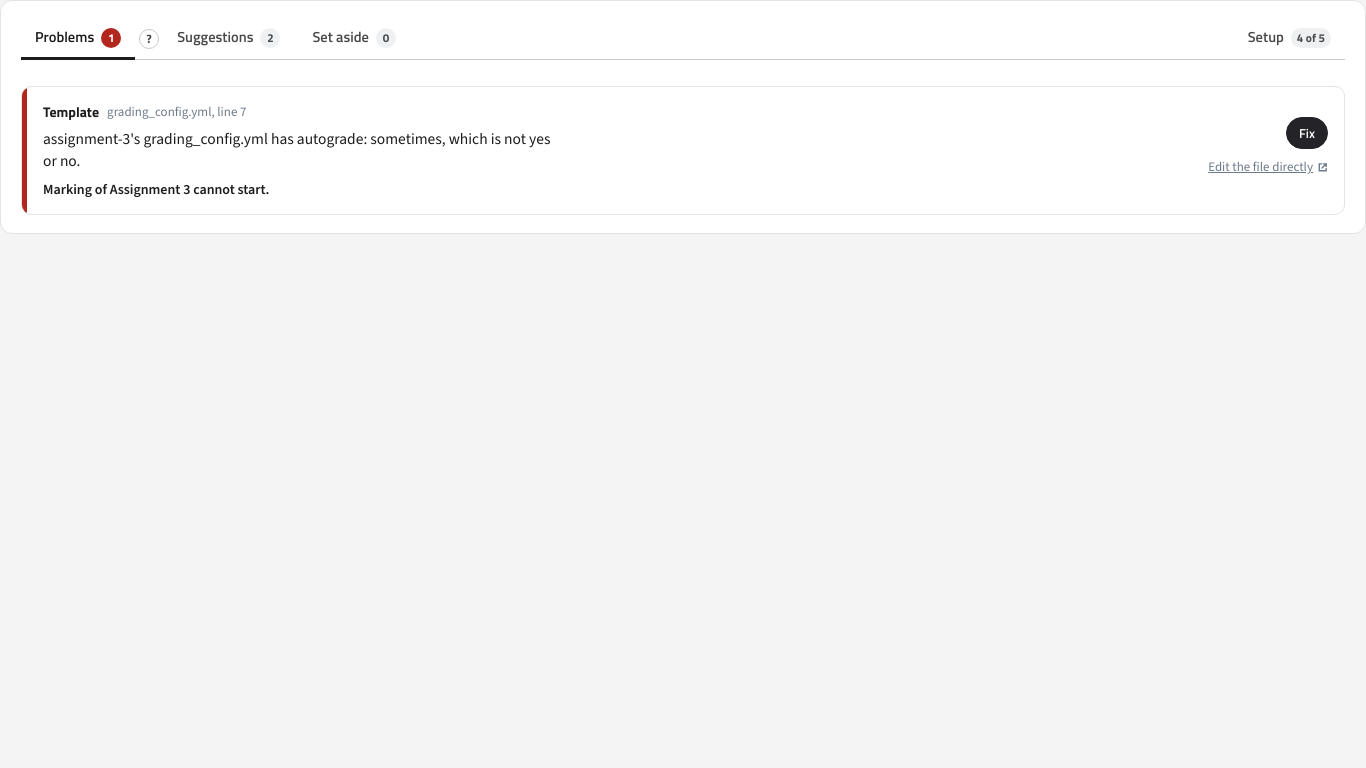
Test case: the circle before a suggestion › keeps the dialog open and says why when the save fails; Cancel writes nothing
Click the tab "Suggestions 2": (229, 39) [163,19,294,60]
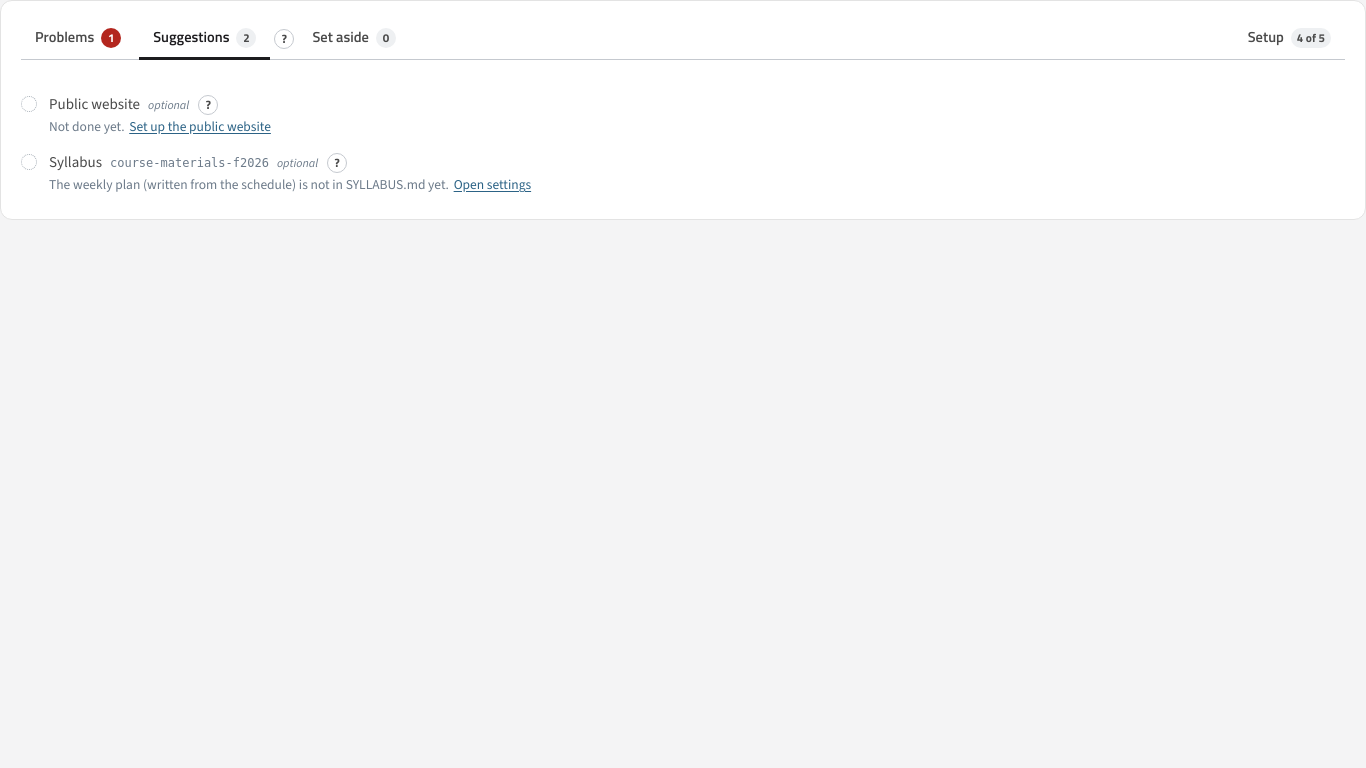
Click the button named "Set aside Public website…": (29, 104) [21,96,37,112]
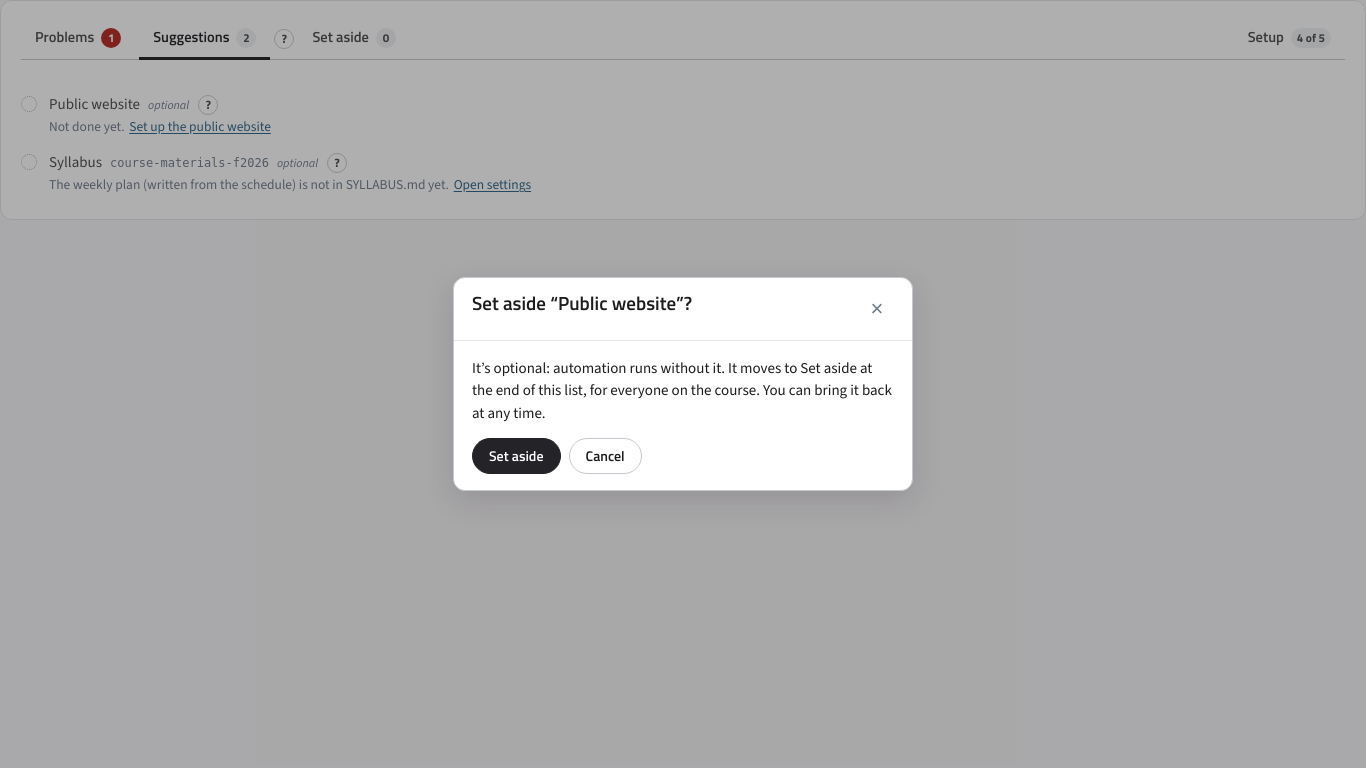
Click the button "Set aside": (516, 456) [472,438,560,474]
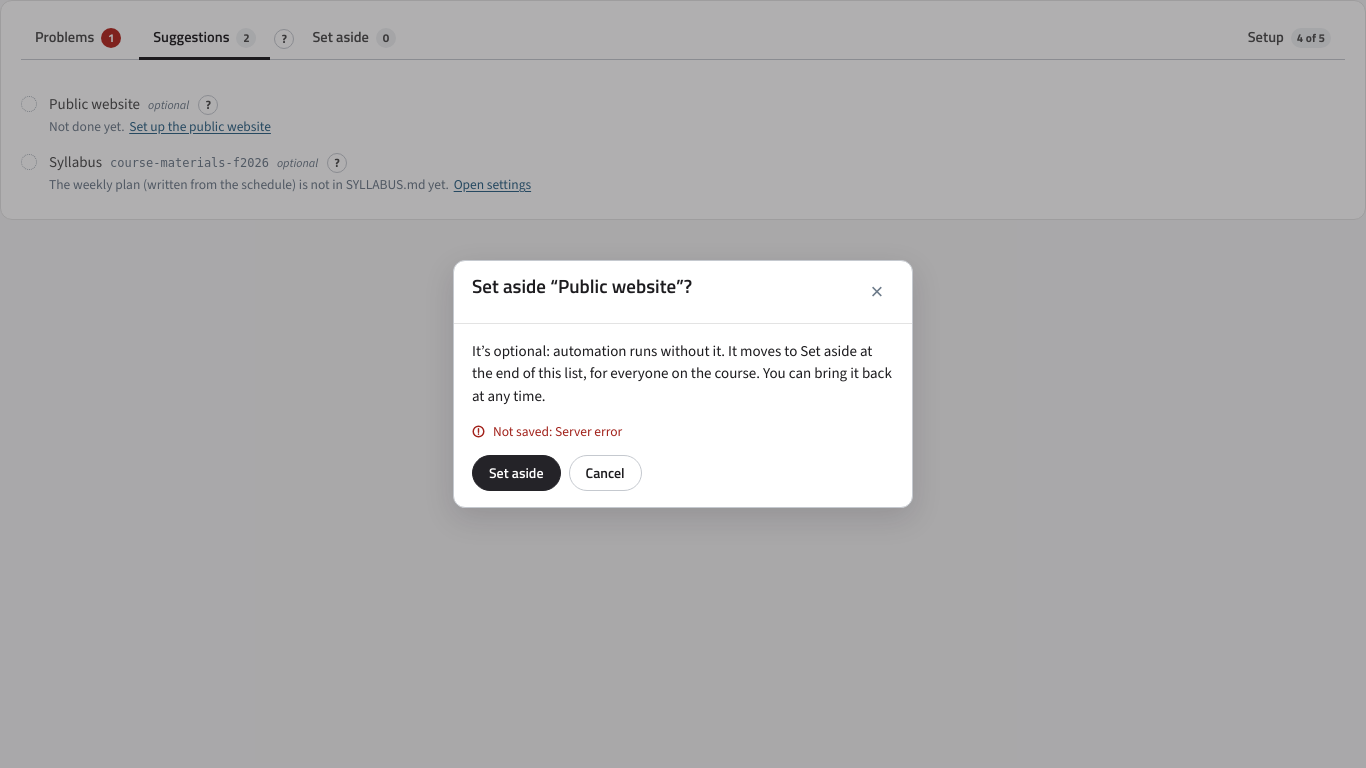
Now the dialog shows "Not saved", box [493,422,622,440]
Click the button "Cancel": (605, 473) [568,455,642,491]
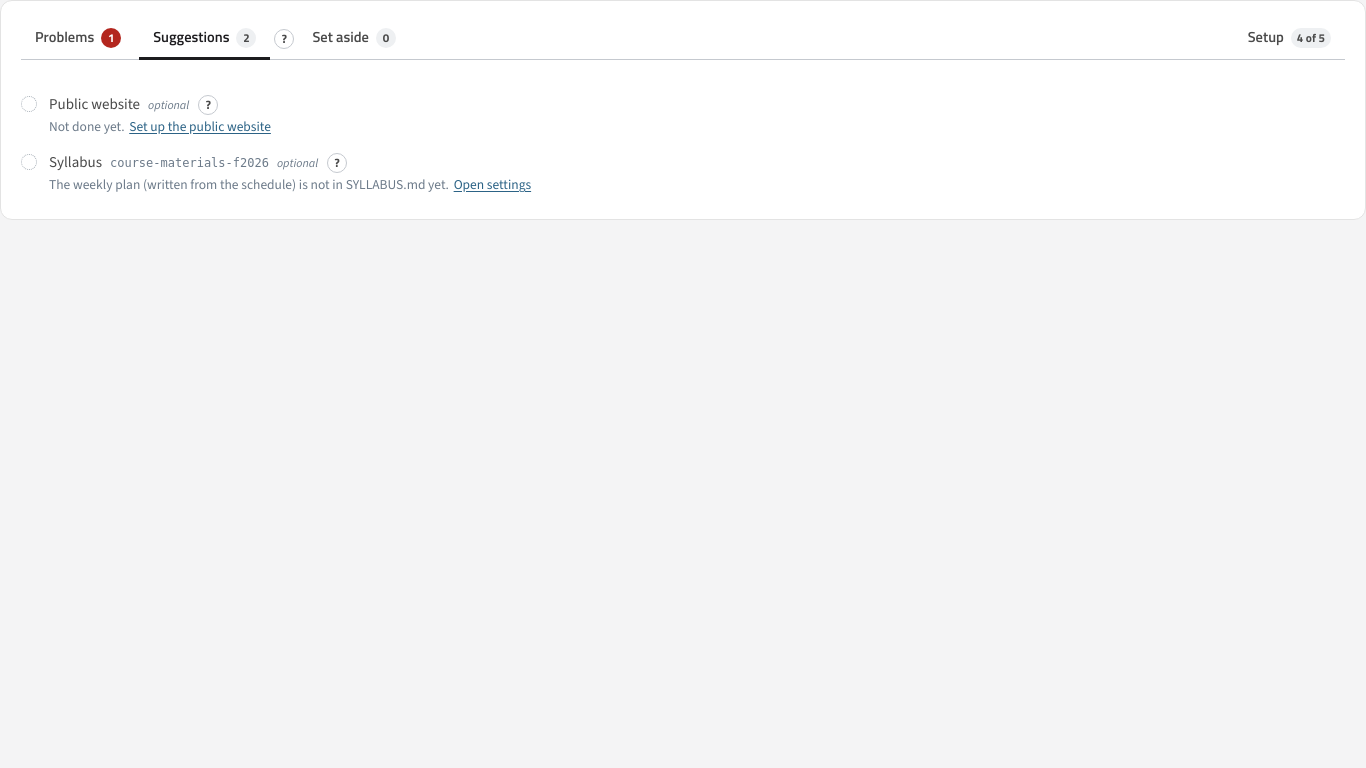
Now the dialog is gone
